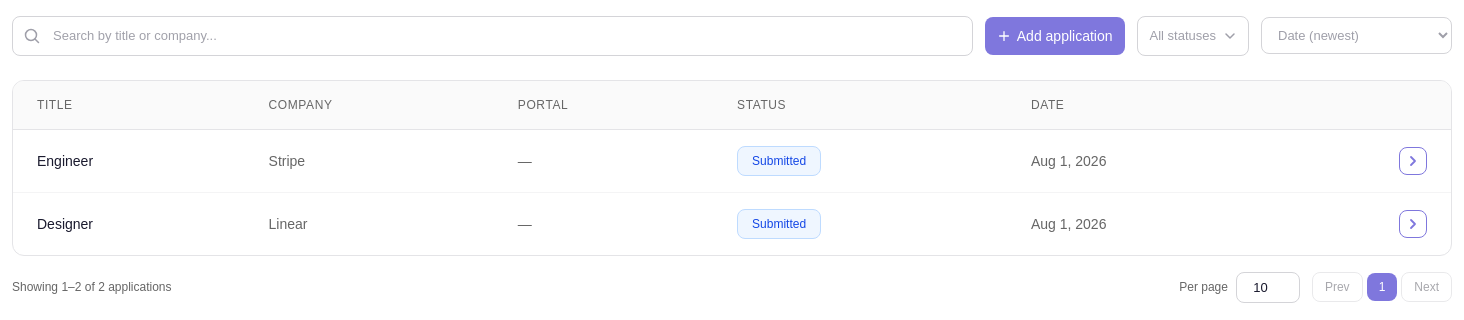
Scenario: JobsList › filters jobs by search query
Expected: the text "Engineer" is shown, [13, 129, 245, 192]
Type "Engineer" into the field with placeholder "Search by title or company..." at point(492, 36), box [12, 16, 973, 56]
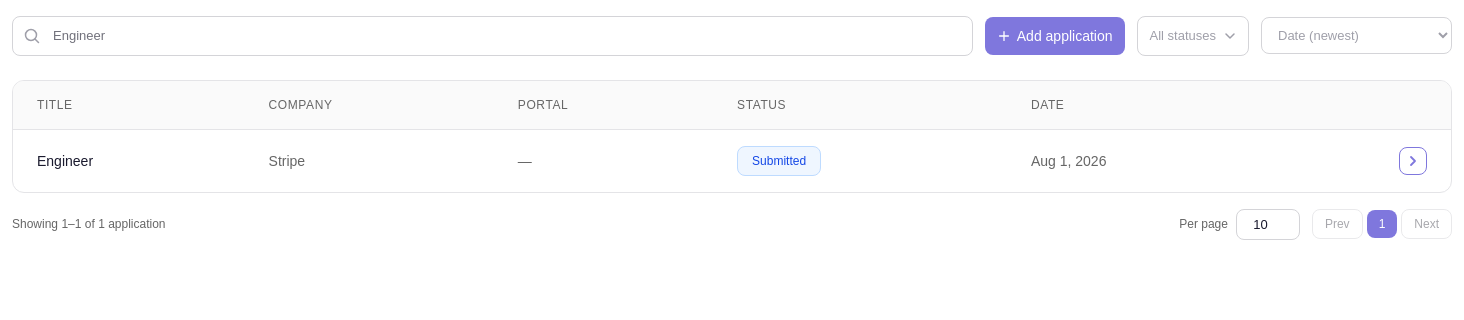
Expected: the text "Engineer" is shown, [13, 129, 245, 192]
Result: the text "Designer" is gone
